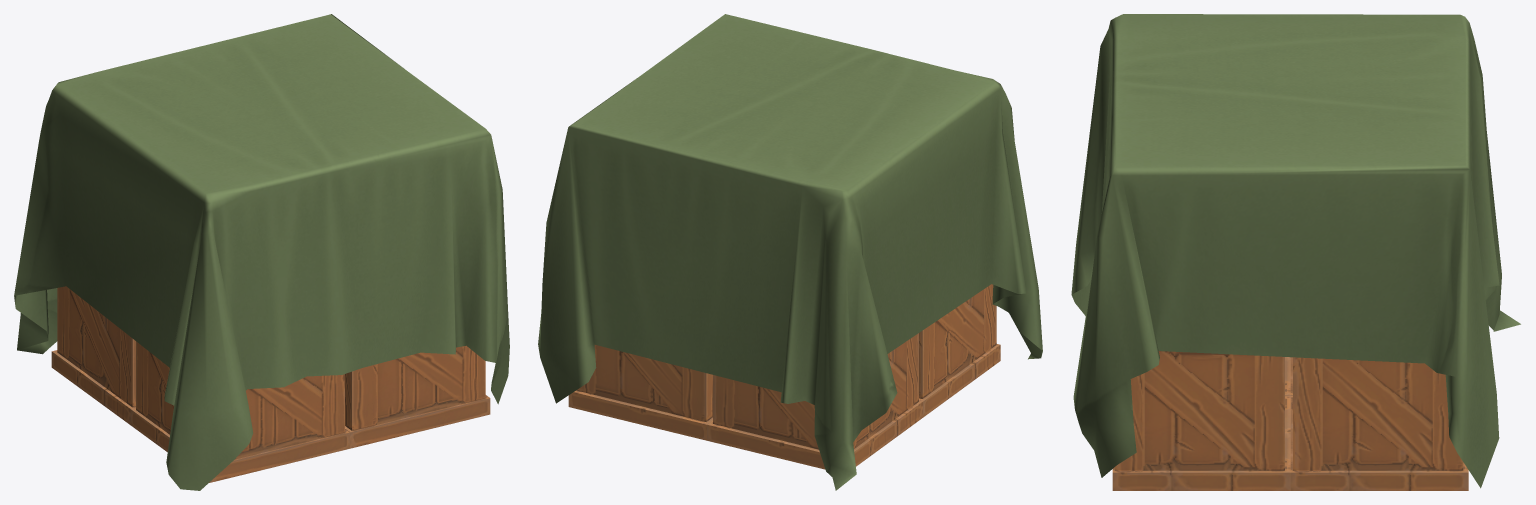
Rendered from Pfb_Box_GRP__2.fbx.
3 views of the same model, side by side, from view 1: azimuth 30°, elevation 25°; view 2: azimuth 150°, elevation 25°; view 3: azimuth 270°, elevation 25° (orthographic). The views are drawn at different scales.
Parts seen in each view (by area): view 1: MAT_Canvas_01, Mat_WoodBox_01_1; view 2: MAT_Canvas_01, Mat_WoodBox_01_1; view 3: MAT_Canvas_01, Mat_WoodBox_01_1.
Part boxes in pixels (x1=…): MAT_Canvas_01: x1=14, y1=14, x2=509, y2=490; Mat_WoodBox_01_1: x1=51, y1=286, x2=490, y2=482; MAT_Canvas_01: x1=538, y1=14, x2=1042, y2=490; Mat_WoodBox_01_1: x1=568, y1=284, x2=1000, y2=469; MAT_Canvas_01: x1=1071, y1=14, x2=1520, y2=488; Mat_WoodBox_01_1: x1=1112, y1=351, x2=1468, y2=490.
Bounding box in the file's own units: 2.02 × 1.53 × 1.92.
Materials: 2 (2 with a texture image).
